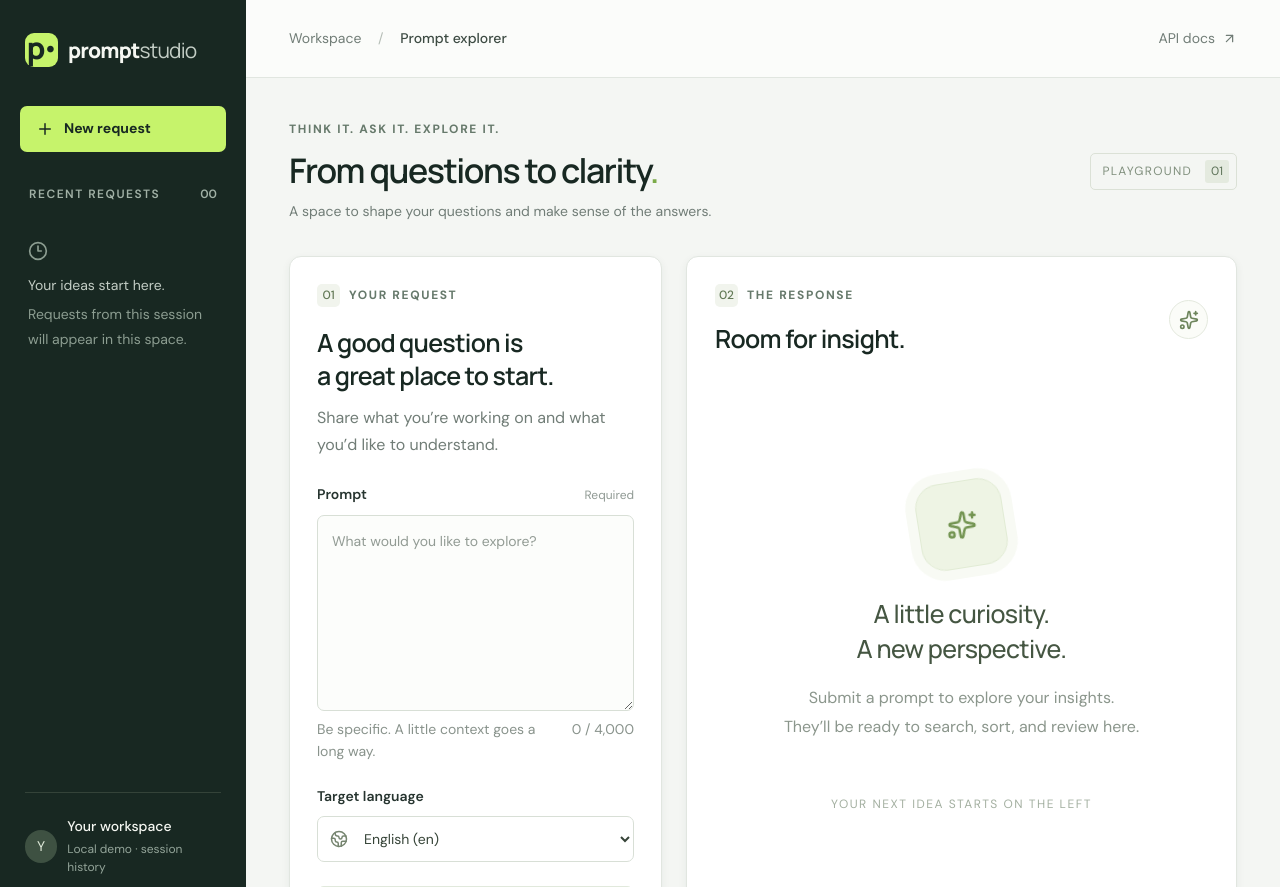
it: clarification follows up with the original context ID
The image size is (1280, 887).
Type "hi" into the text box labelled "Prompt" at (476, 613), box x1=317 y1=515 x2=634 y2=711
(page scrolled)
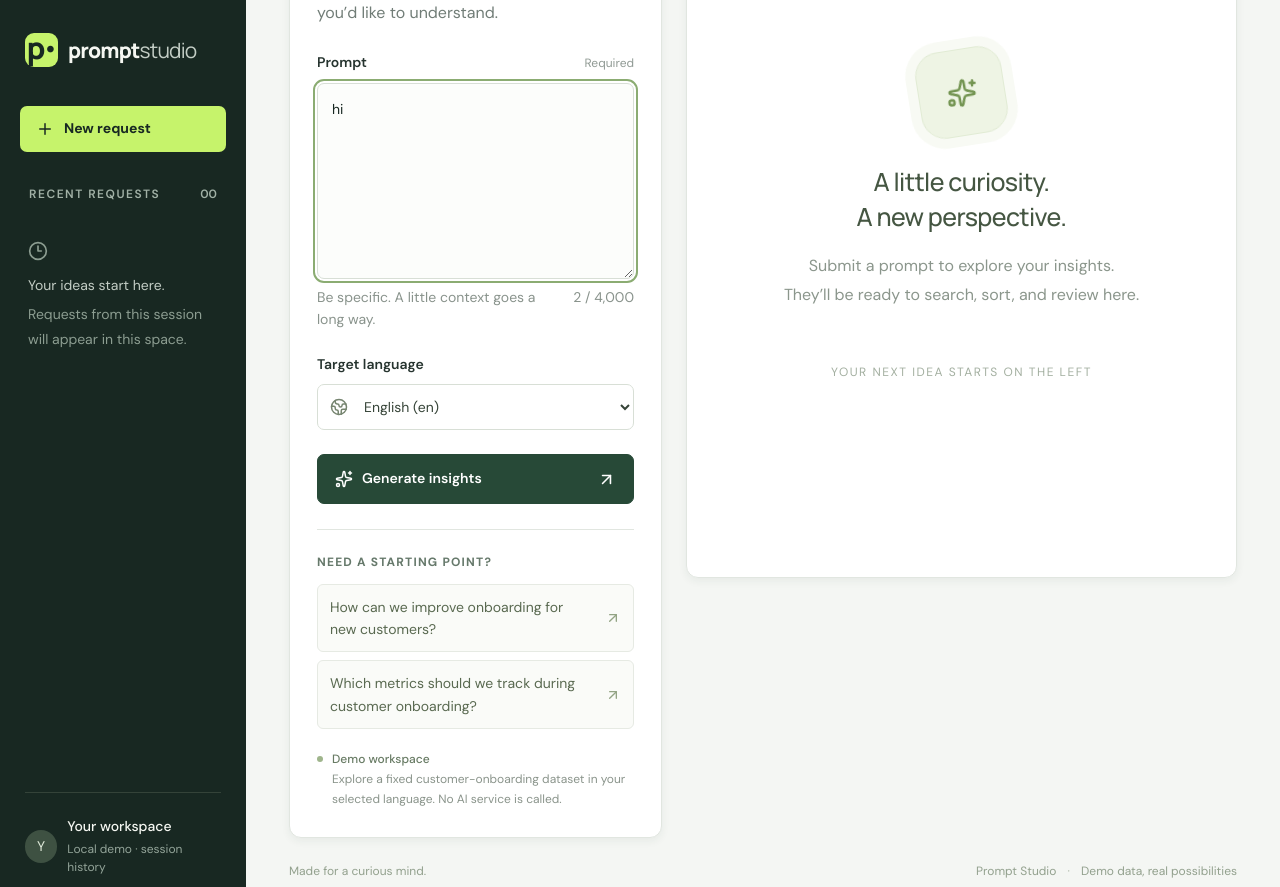
Click the button "Generate insights" at (476, 479), box x1=317 y1=454 x2=634 y2=504
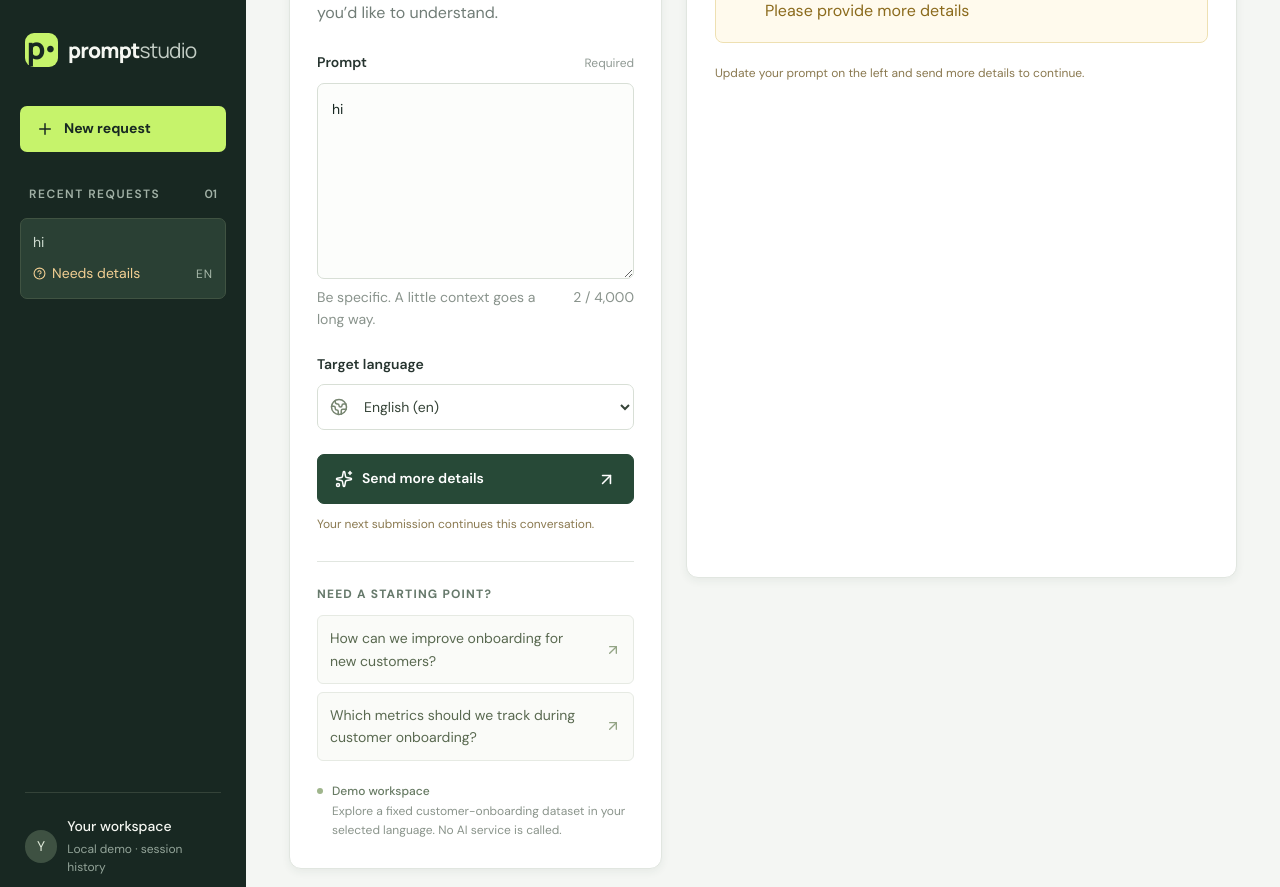
Replace the text in the text box labelled "Prompt" with "Improve our onboarding flow" at (476, 181), box x1=317 y1=83 x2=634 y2=279
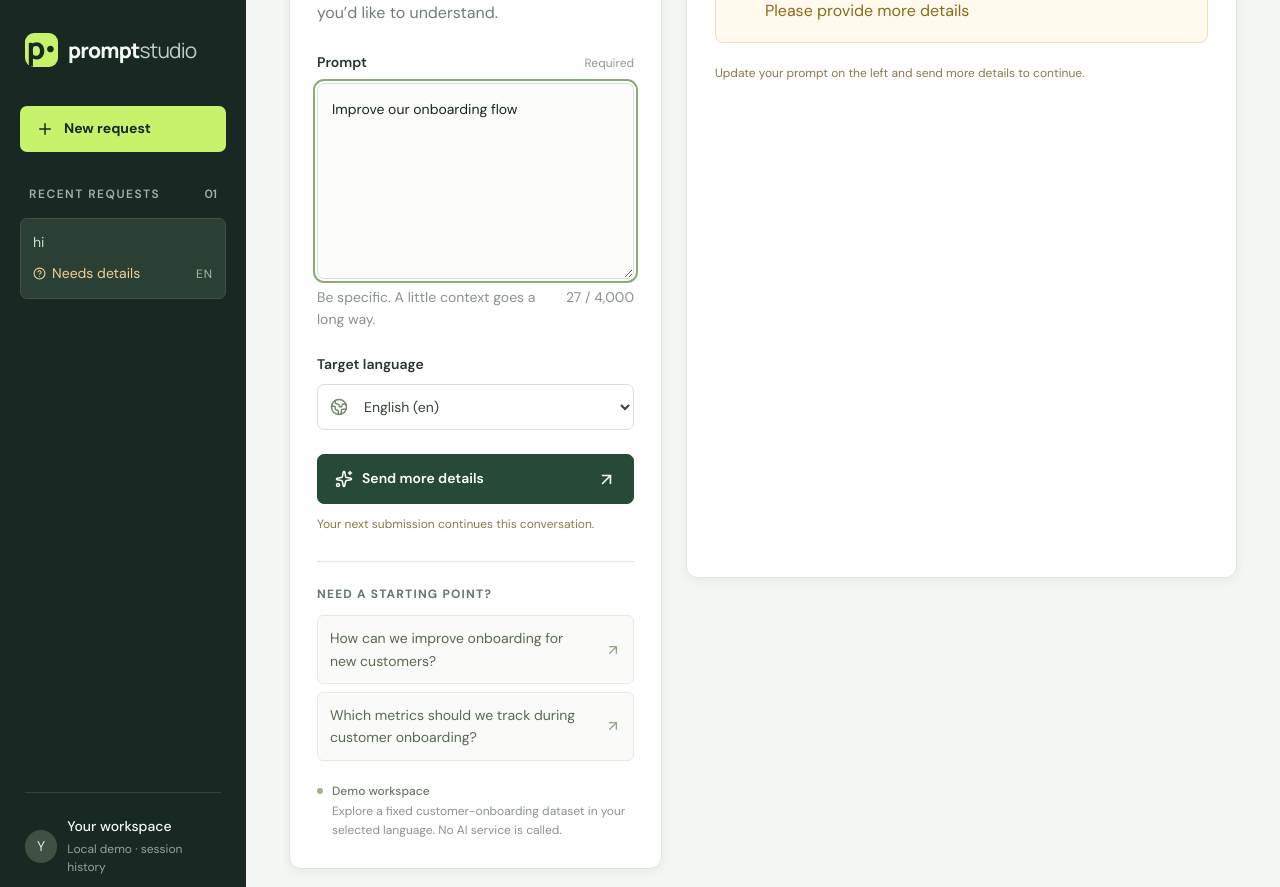
Click the button "Send more details" at (476, 479), box x1=317 y1=454 x2=634 y2=504
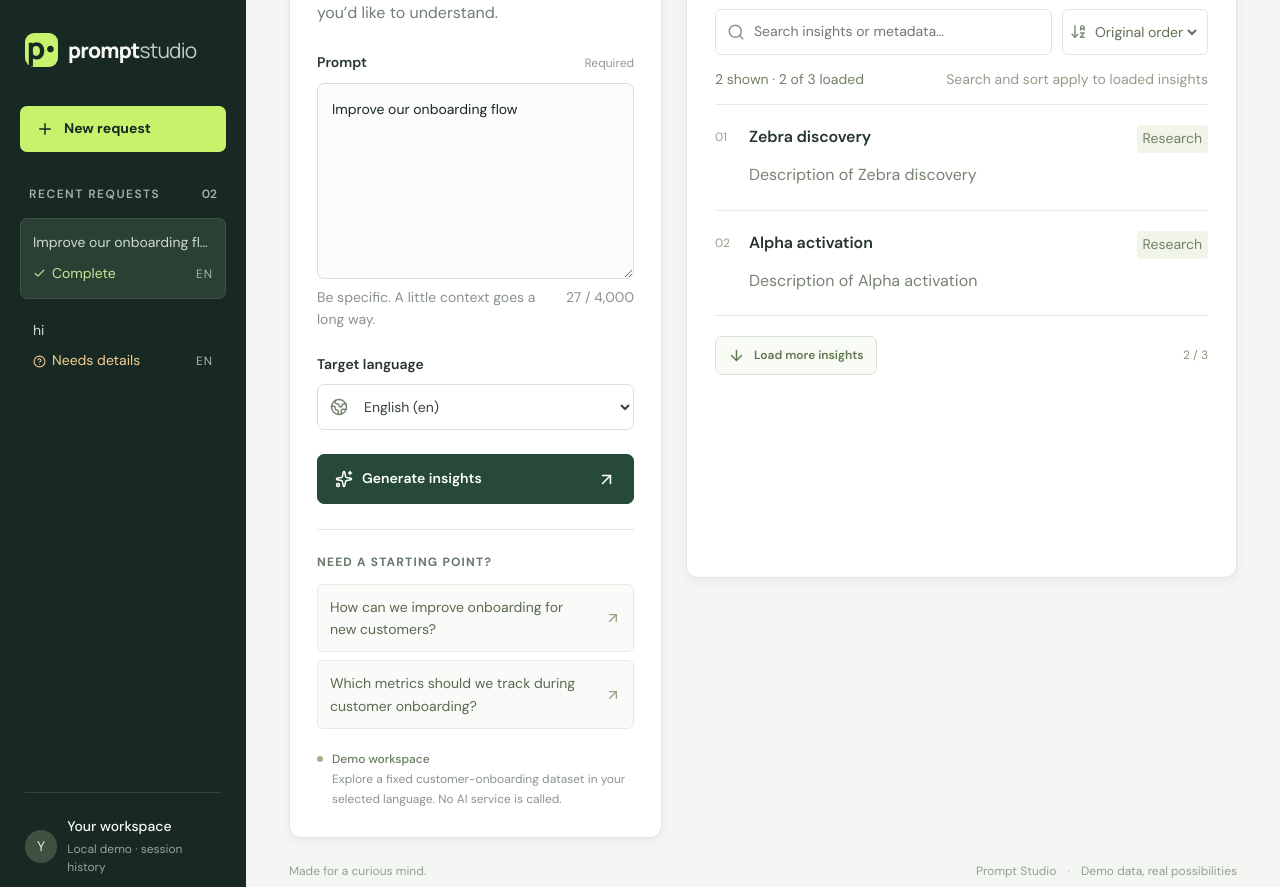
Result: the heading "Zebra discovery" is shown at x1=749 y1=126 x2=871 y2=147
